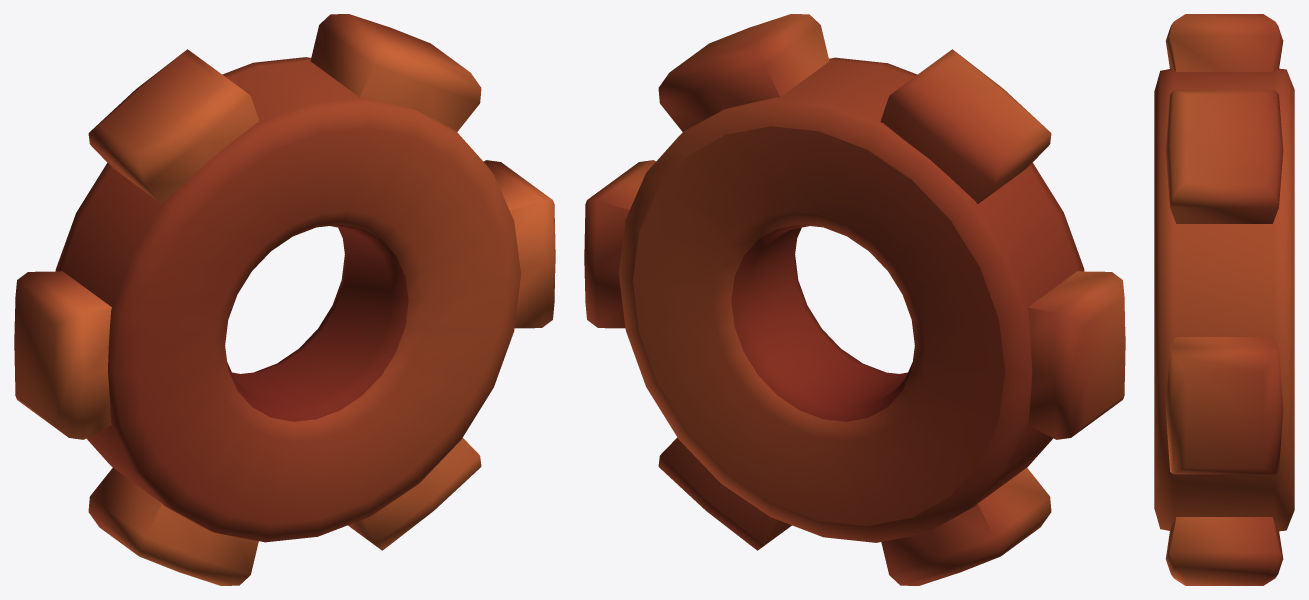
File: Gear_V2_0.fbx
The picture shows the model from 3 angles, left to right: view 1: azimuth 30°, elevation 25°; view 2: azimuth 150°, elevation 25°; view 3: azimuth 270°, elevation 25°; orthographic projection. The views are drawn at different scales.
Visible parts, largest first — view 1: Gear_V2_0; view 2: Gear_V2_0; view 3: Gear_V2_0.
Part boxes in pixels (x1=…): Gear_V2_0: x1=14, y1=14, x2=555, y2=585; Gear_V2_0: x1=584, y1=14, x2=1125, y2=585; Gear_V2_0: x1=1154, y1=14, x2=1294, y2=585.
Size of the model in its own units: 0.535 by 0.5115 by 0.1326.
